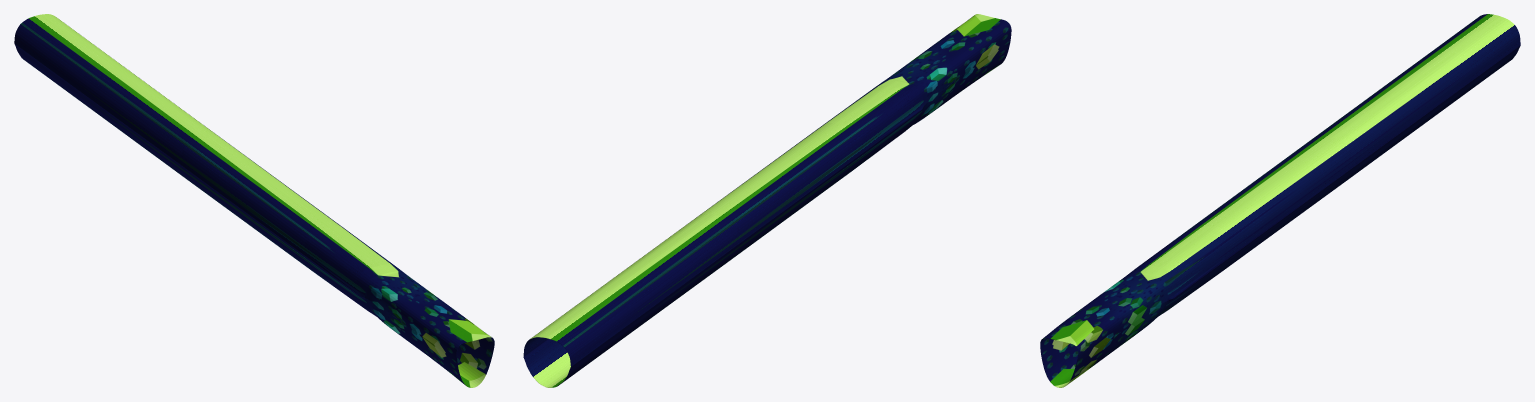
The model's file is sleeveCube.glb.
The picture shows the model from 3 angles, left to right: view 1: azimuth 30°, elevation 25°; view 2: azimuth 150°, elevation 25°; view 3: azimuth 330°, elevation 25°; orthographic projection.
Parts seen in each view (by area): view 1: Sleeve; view 2: Sleeve; view 3: Sleeve.
Boxes of the visible parts, box(x1,y1,x2,y2) form: Sleeve: box(14, 14, 494, 387); Sleeve: box(523, 14, 1011, 387); Sleeve: box(1040, 14, 1520, 387).
Bounding box in the file's own units: 2.37 × 2.52 × 38.4.
1 material, 1 textured.
